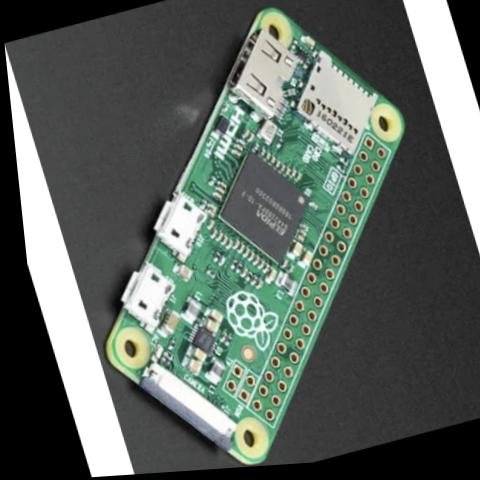Raspberry-Pi-Zero: (13, 0, 480, 479)
